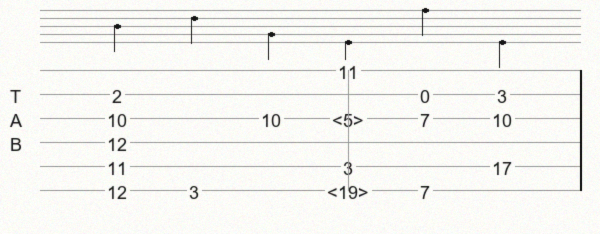0: (420, 86, 434, 103)
10: (107, 110, 131, 127), (261, 110, 285, 127), (492, 110, 516, 127)
11: (107, 158, 131, 175), (338, 62, 362, 79)
12: (107, 182, 131, 199), (107, 134, 131, 151)
17: (492, 158, 516, 175)
2: (112, 86, 126, 103)
3: (189, 182, 203, 199), (343, 158, 357, 175), (497, 86, 511, 103)
7: (420, 110, 434, 127), (420, 182, 434, 199)
harmonic: (327, 182, 373, 199), (332, 110, 368, 127)
